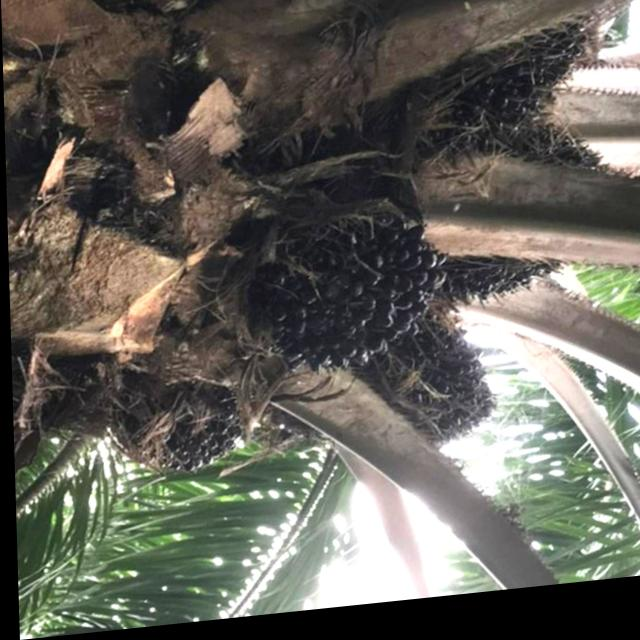almost: (254, 174, 452, 388)
